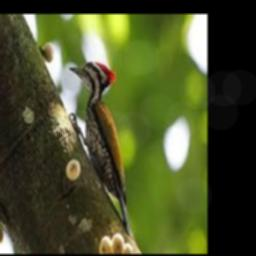Woodpecker: (69, 62, 133, 237)
